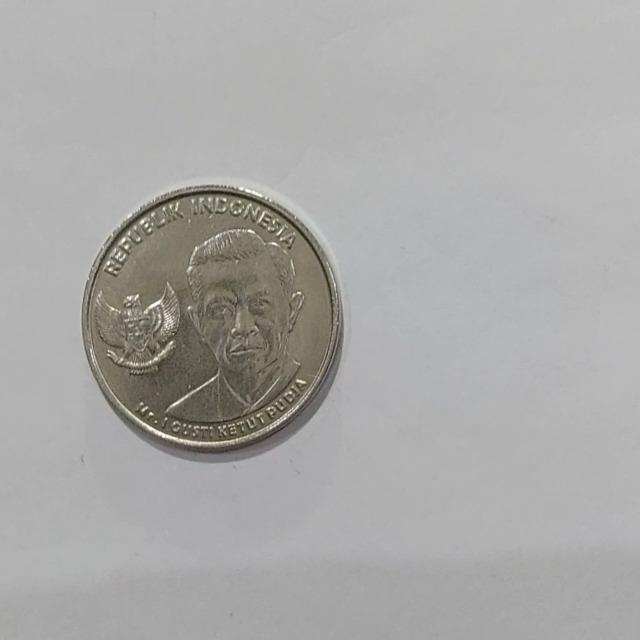Rp100: (81, 182, 344, 454), (159, 225, 308, 427)
